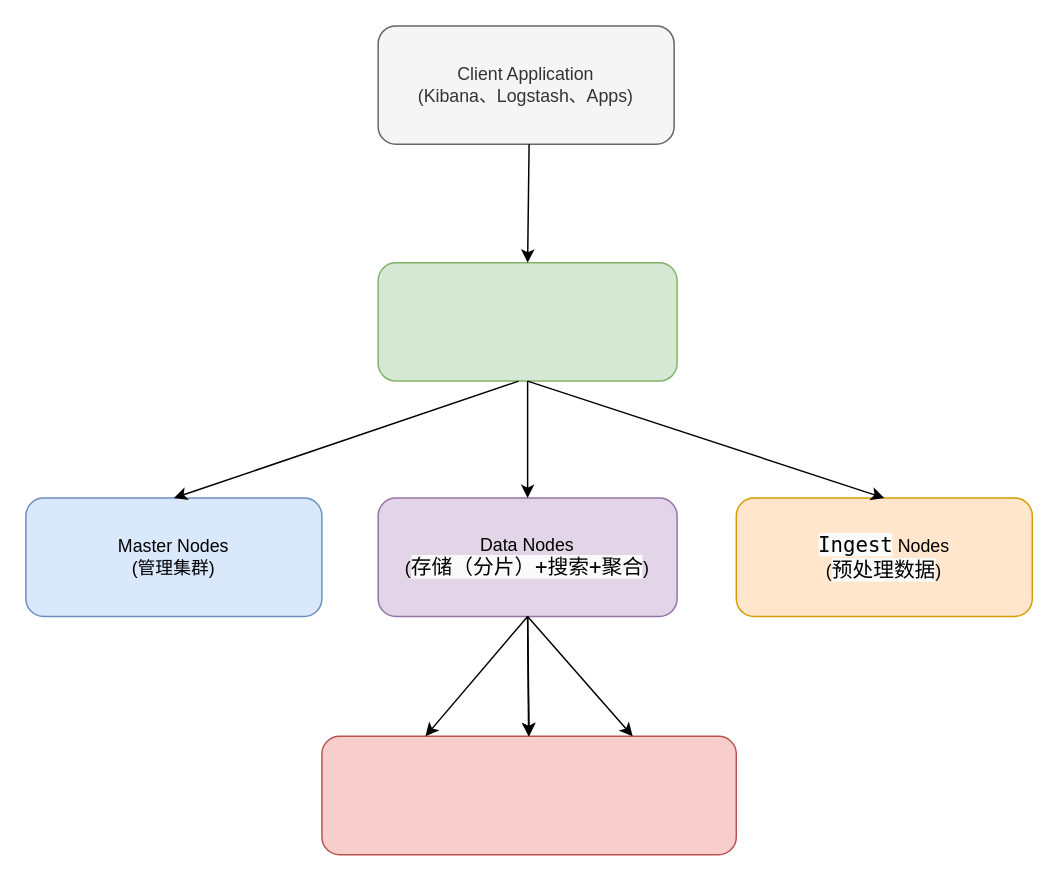
Some shapes in this 1058 by 881 pixel diagram are drawn without their labels. Here are the shapes that lost their labels. From the top down, the centre of each, then its label:
At point (527, 321): "Coordinating Nodes (接收请求、路由、合并结果)".
At point (528, 795): "Lucene Index ( 倒排索引 + 正向索引 + 存储 )".
